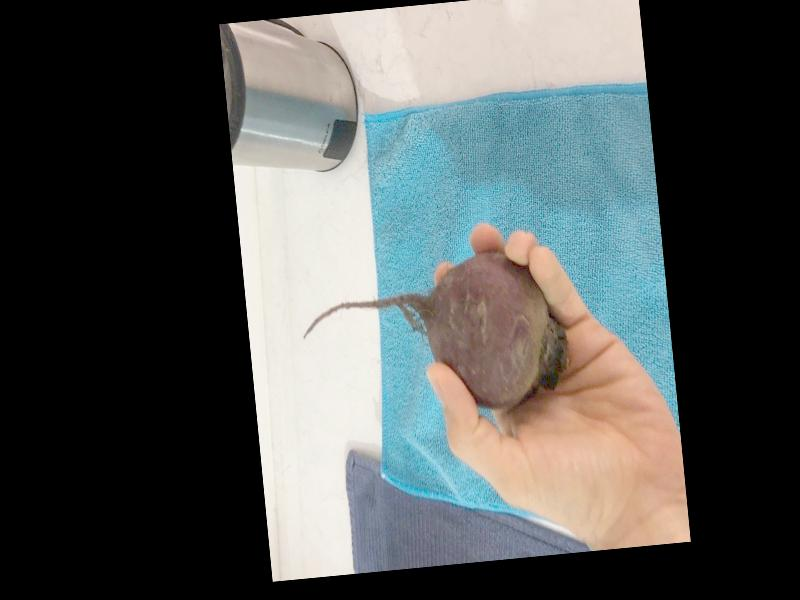Beet: (297, 244, 573, 427)
